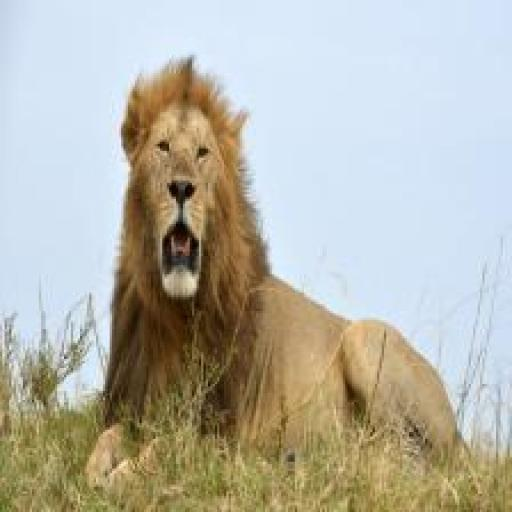lion: (105, 64, 257, 335)
